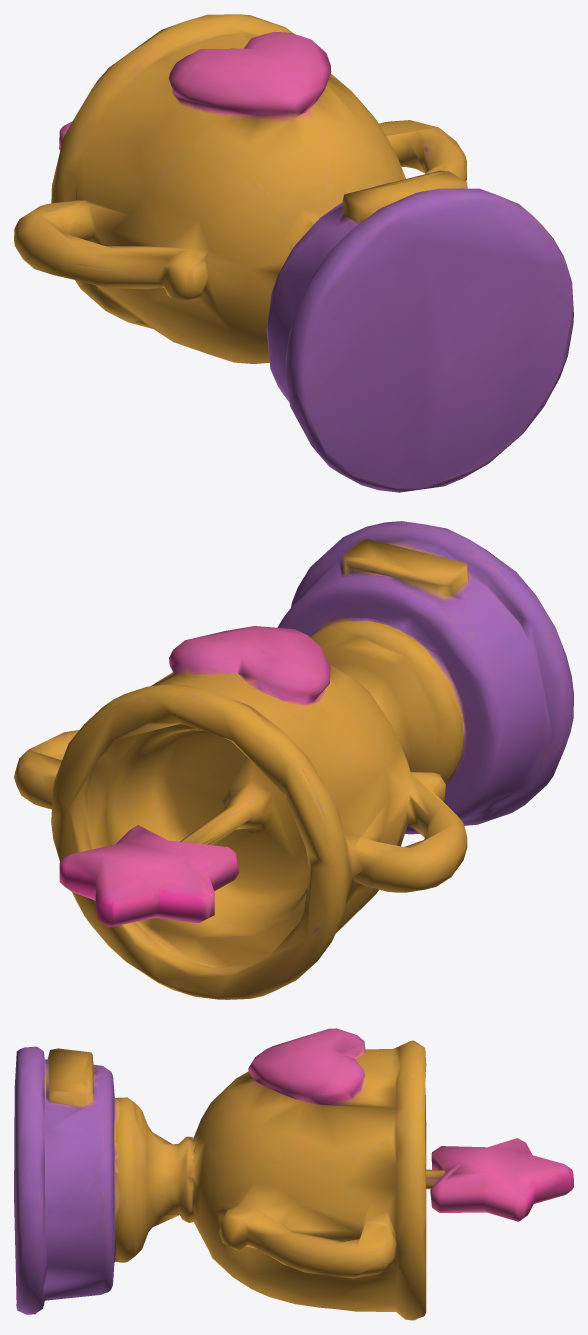
3 views of the same model, one above another, from view 1: azimuth 30°, elevation 25°; view 2: azimuth 150°, elevation 25°; view 3: azimuth 270°, elevation 25° (orthographic). The views are drawn at different scales.
Parts seen in each view (by area): view 1: material; view 2: material; view 3: material.
Part boxes in pixels (x1,y1,x2,y2): material: [14, 14, 573, 492]; material: [14, 521, 573, 999]; material: [14, 1028, 573, 1320].
Size of the model in its own units: 0.7319 by 0.5161 by 1.
Materials: 1 (1 with a texture image).
